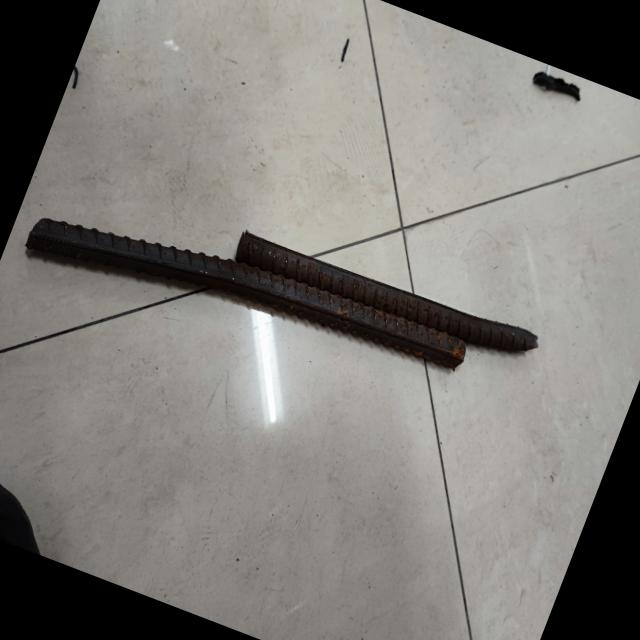Welded link: (215, 224, 482, 380)
ribbed bar: (13, 136, 550, 440)
